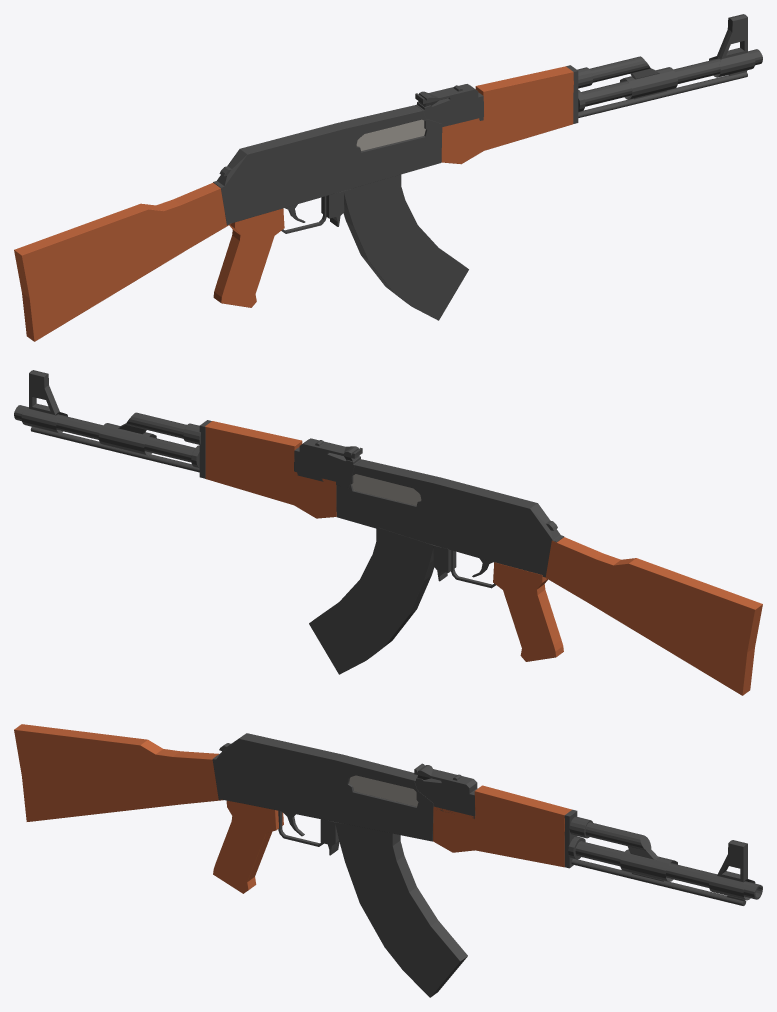
The picture shows the model from 3 angles, top to bottom: view 1: azimuth 30°, elevation 25°; view 2: azimuth 150°, elevation 25°; view 3: azimuth 330°, elevation 25°; orthographic projection.
Visible parts, largest first — view 1: Cube.005; view 2: Cube.005; view 3: Cube.005.
Boxes of the visible parts, left/top/right/bottom form: Cube.005: left=14, top=14, right=762, bottom=341; Cube.005: left=14, top=370, right=762, bottom=695; Cube.005: left=14, top=724, right=762, bottom=997.
Bounding box in the file's own units: 962 × 281 × 28.24.
